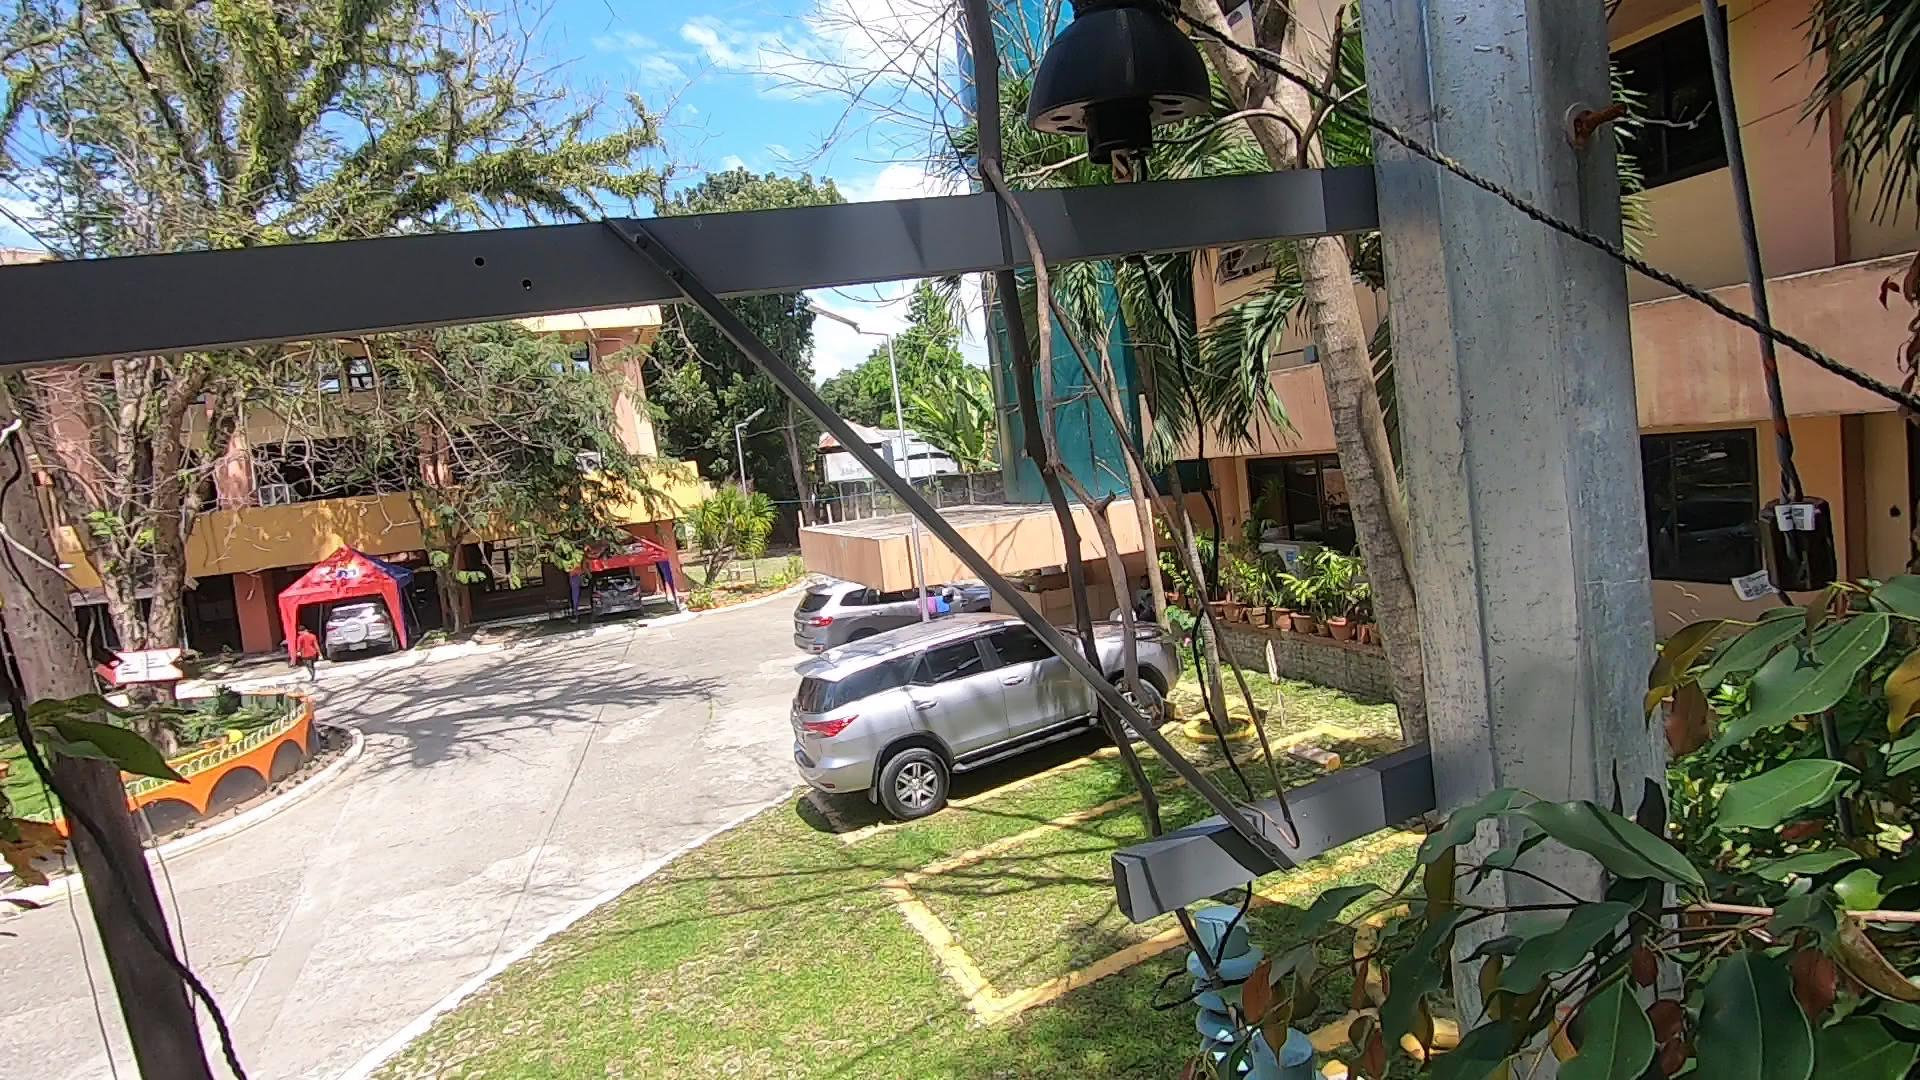branch with leaves: (1189, 877, 1487, 1080)
tree branch: (915, 16, 1233, 860)
